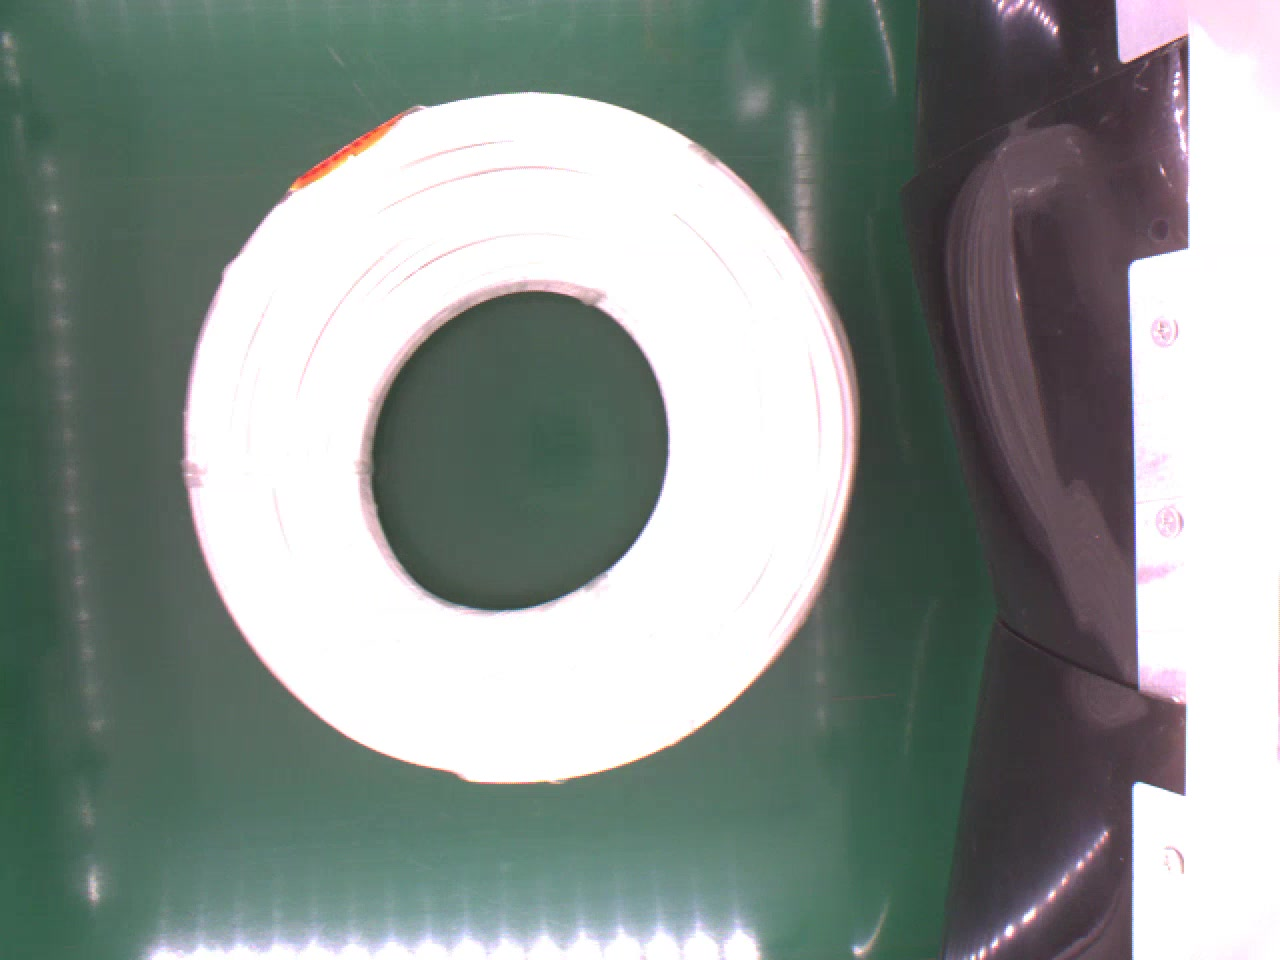white: (184, 85, 876, 794)
